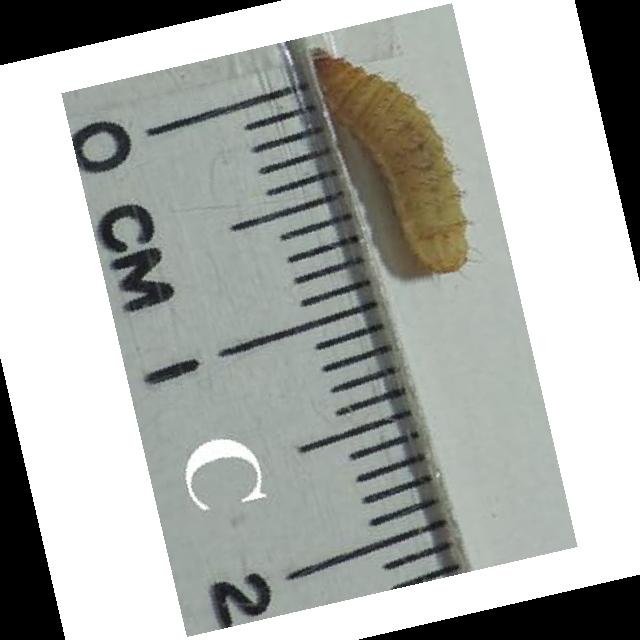Maggot: (310, 46, 475, 278)
